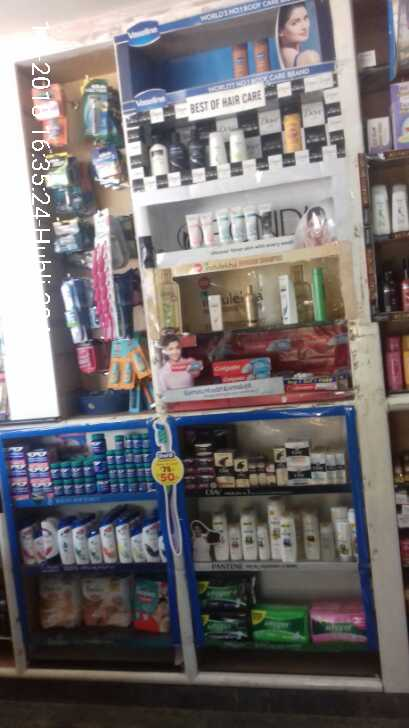beauty: (210, 509, 229, 560), (54, 519, 74, 567), (140, 514, 159, 561), (301, 506, 318, 557), (116, 514, 133, 561), (335, 520, 354, 559), (241, 507, 255, 559), (283, 440, 312, 465), (71, 518, 87, 563), (280, 512, 295, 559), (98, 516, 113, 557), (317, 522, 333, 559), (215, 448, 229, 489), (226, 522, 241, 559), (310, 449, 325, 485), (86, 528, 101, 563), (274, 445, 287, 485), (256, 520, 269, 559), (233, 459, 248, 490), (286, 466, 310, 485), (335, 449, 346, 485), (258, 456, 268, 490), (247, 456, 257, 490), (196, 474, 214, 491), (194, 442, 213, 458), (265, 461, 276, 488), (325, 452, 333, 484), (197, 458, 214, 473)
pharmacy: (251, 600, 308, 644), (132, 572, 170, 637), (196, 570, 255, 611), (310, 601, 367, 643), (205, 612, 251, 642), (27, 450, 49, 475), (9, 448, 27, 475), (91, 432, 105, 455)
